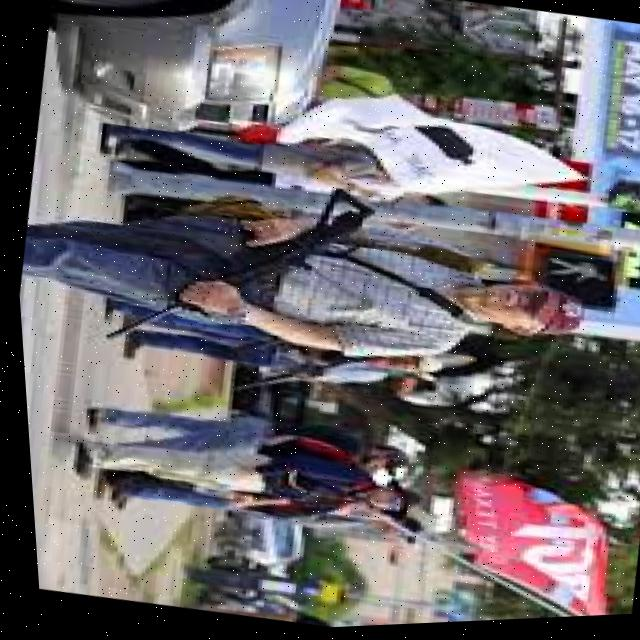firearm: (88, 150, 386, 384), (223, 333, 386, 418)
